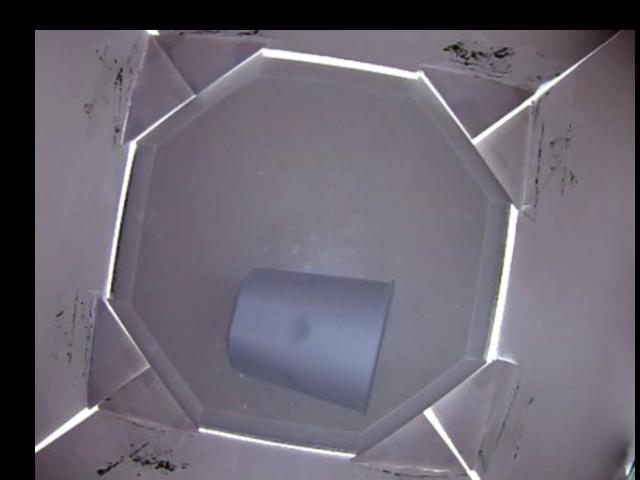Cup: (225, 266, 393, 419)
